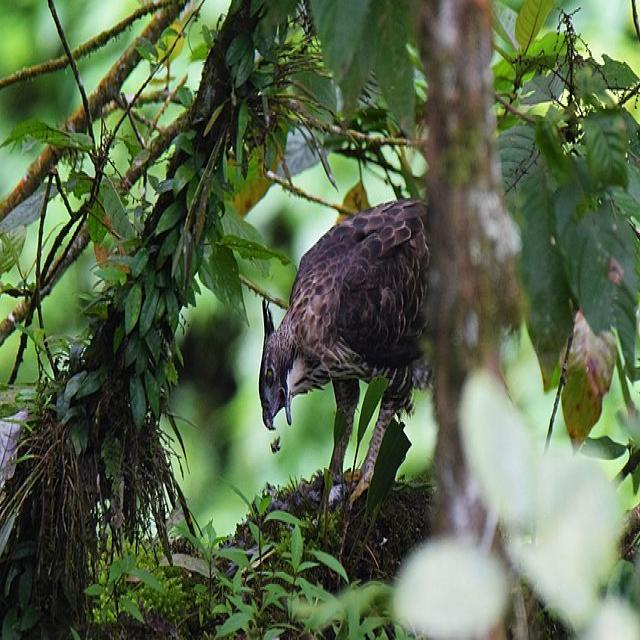Elang Jawa: (230, 156, 470, 534)
